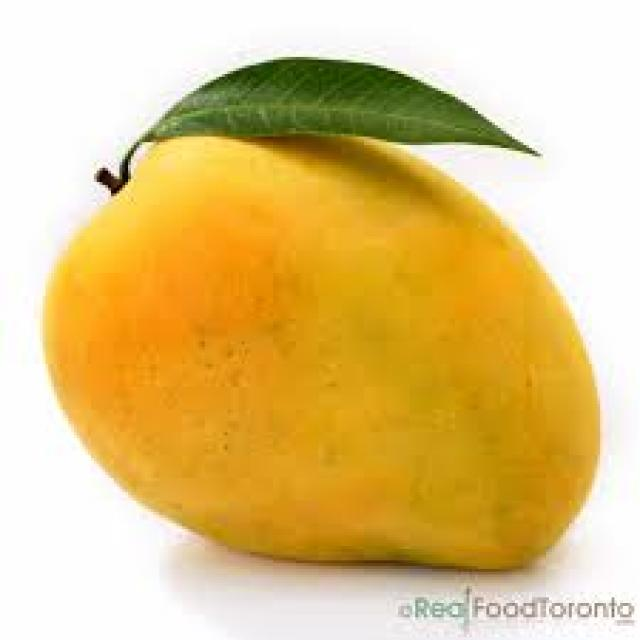Organik: (54, 63, 603, 575)
